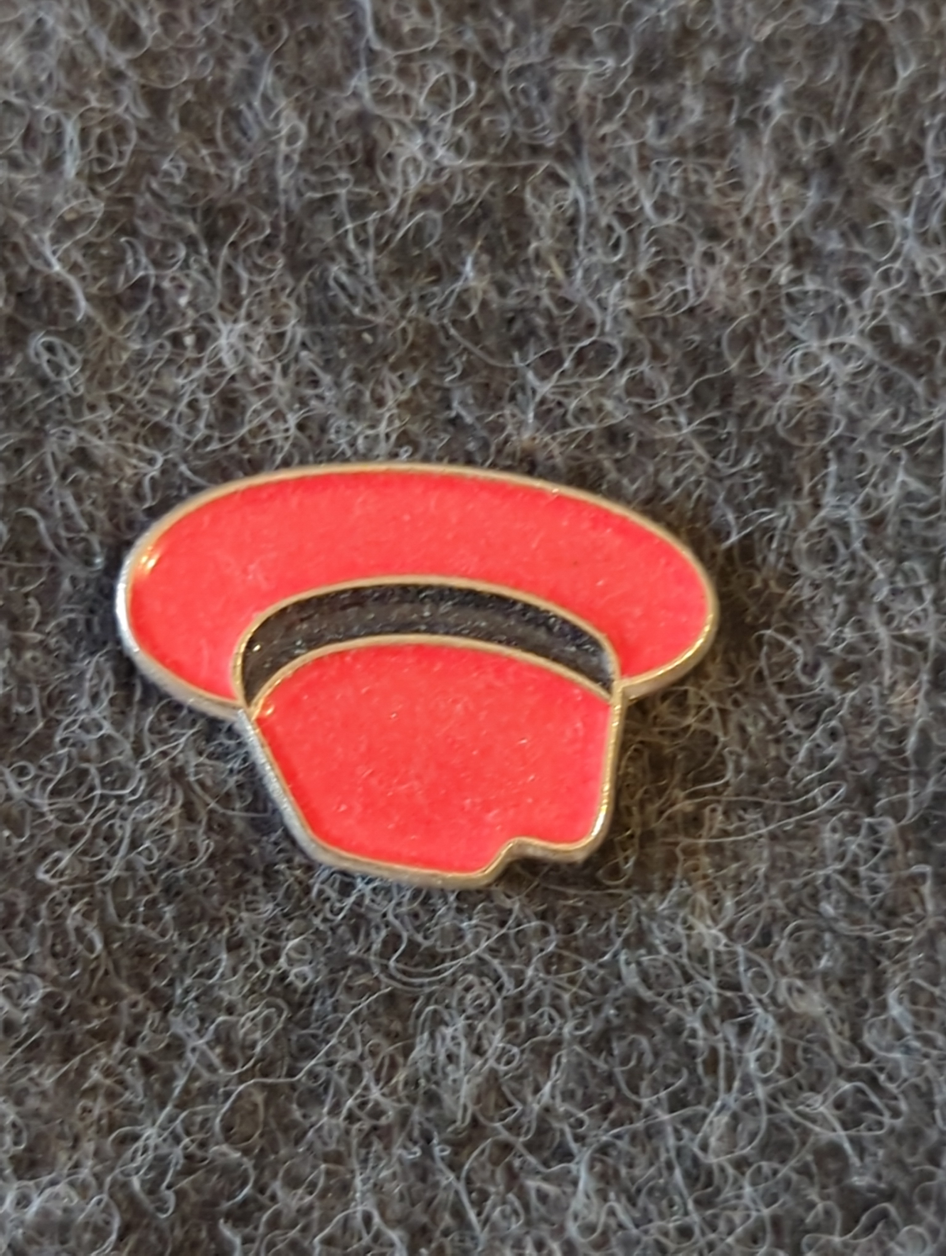Red-Hat: (21, 358, 928, 1078)
